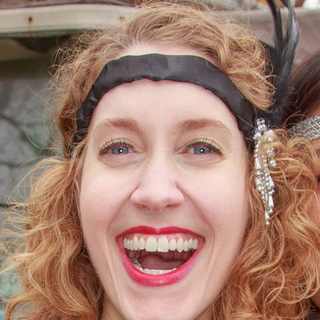eye: (177, 139, 225, 163), (99, 138, 144, 163)
